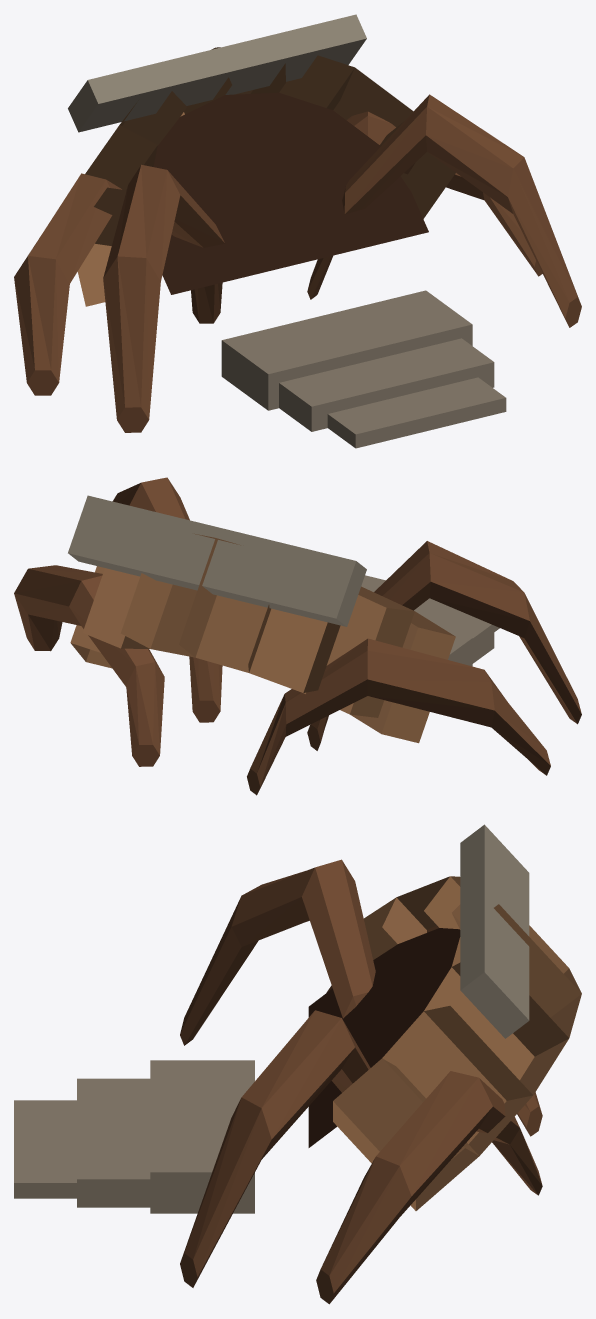
Rendered from tana.glb.
3 views of the same model, one above another, from view 1: azimuth 30°, elevation 25°; view 2: azimuth 150°, elevation 25°; view 3: azimuth 270°, elevation 25° (orthographic). The views are drawn at different scales.
Size of the model in its own units: 1.95 by 0.8383 by 1.63.
